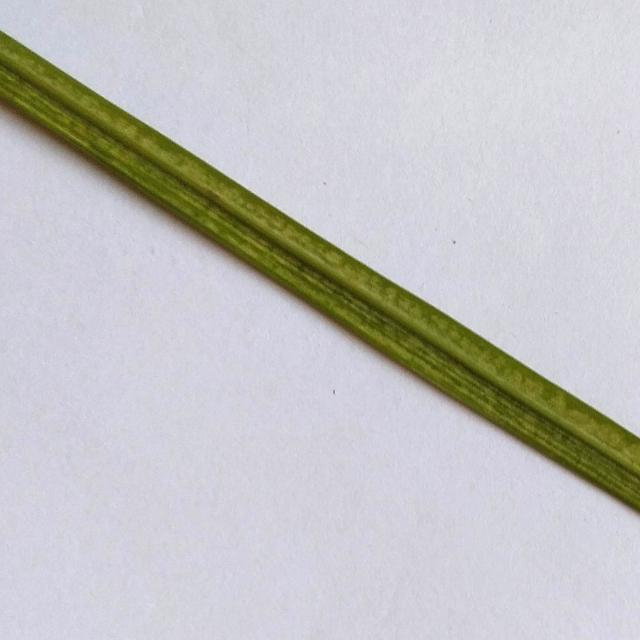Rice_Healthy: (0, 32, 640, 511)
